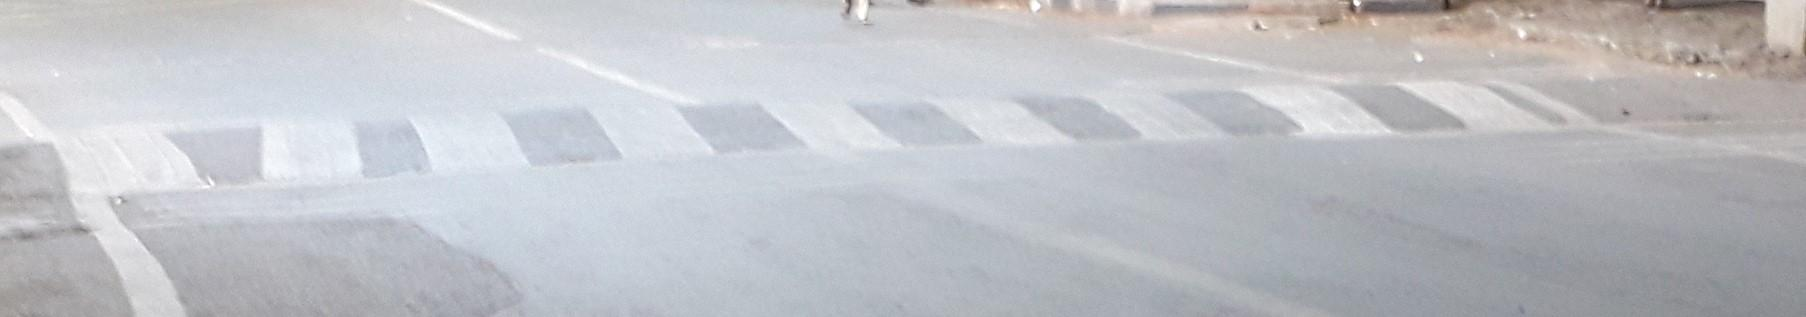speed-bump: (6, 64, 1806, 221)
